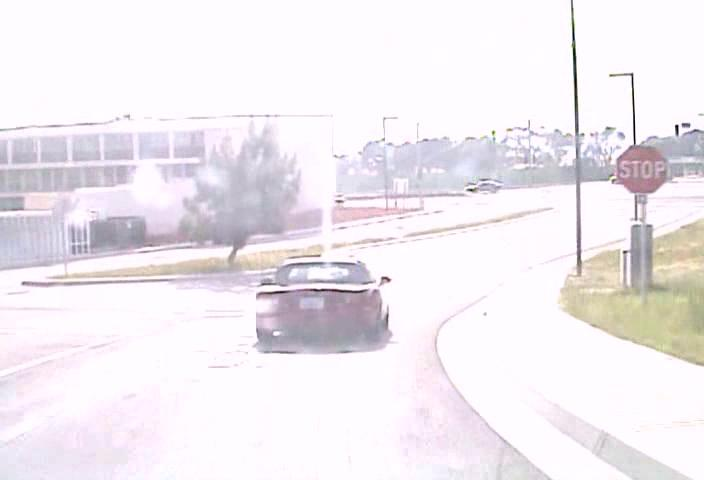stop: (614, 144, 668, 194)
